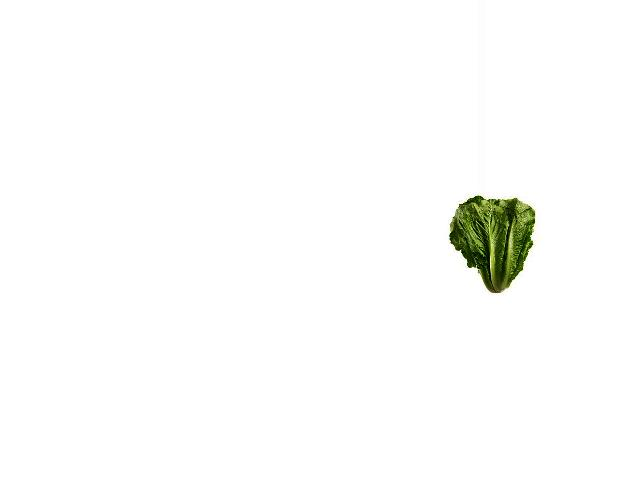lettuce: (446, 194, 531, 298)
